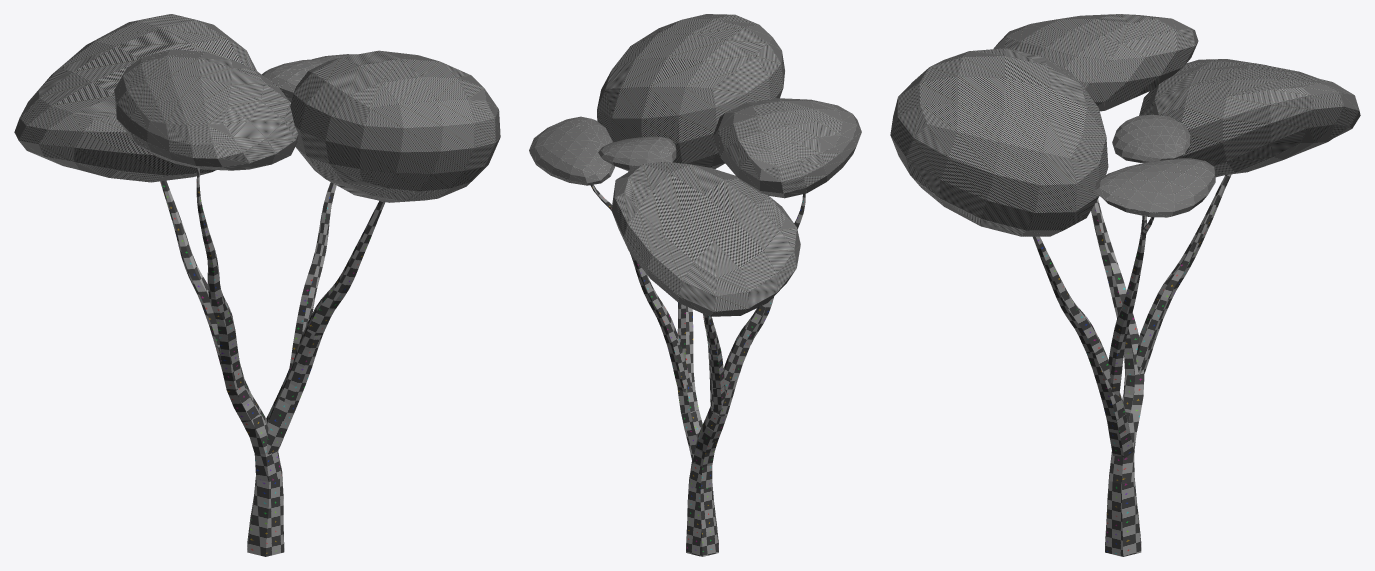
The model's file is Tree_M.glb.
The picture shows the model from 3 angles, left to right: view 1: azimuth 30°, elevation 25°; view 2: azimuth 150°, elevation 25°; view 3: azimuth 270°, elevation 25°; orthographic projection. The views are drawn at different scales.
Visible parts, largest first — view 1: tree; view 2: tree; view 3: tree.
Boxes of the visible parts, bbox=[...] form: tree: bbox=[14, 14, 500, 556]; tree: bbox=[529, 14, 861, 556]; tree: bbox=[890, 14, 1360, 556].
Bounding box in the file's own units: 2.69 × 3.89 × 3.26.
2 materials, 2 textured.
